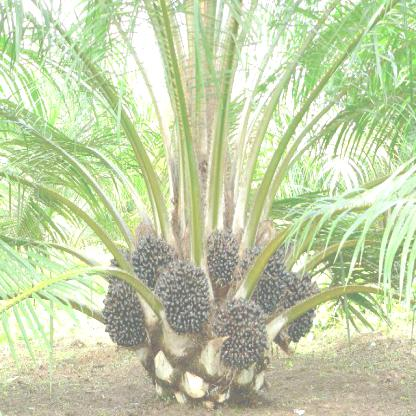palm-oil: (156, 265, 212, 331), (218, 299, 268, 372), (102, 278, 146, 348), (280, 278, 324, 341), (250, 245, 286, 312), (202, 225, 239, 289), (136, 235, 176, 282)
